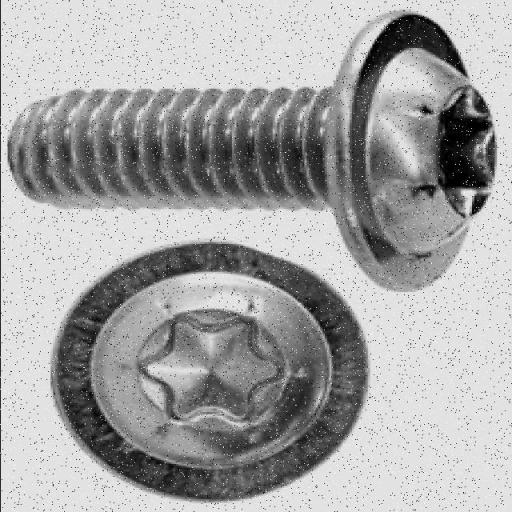Torx: (34, 243, 374, 508), (305, 6, 505, 316)
